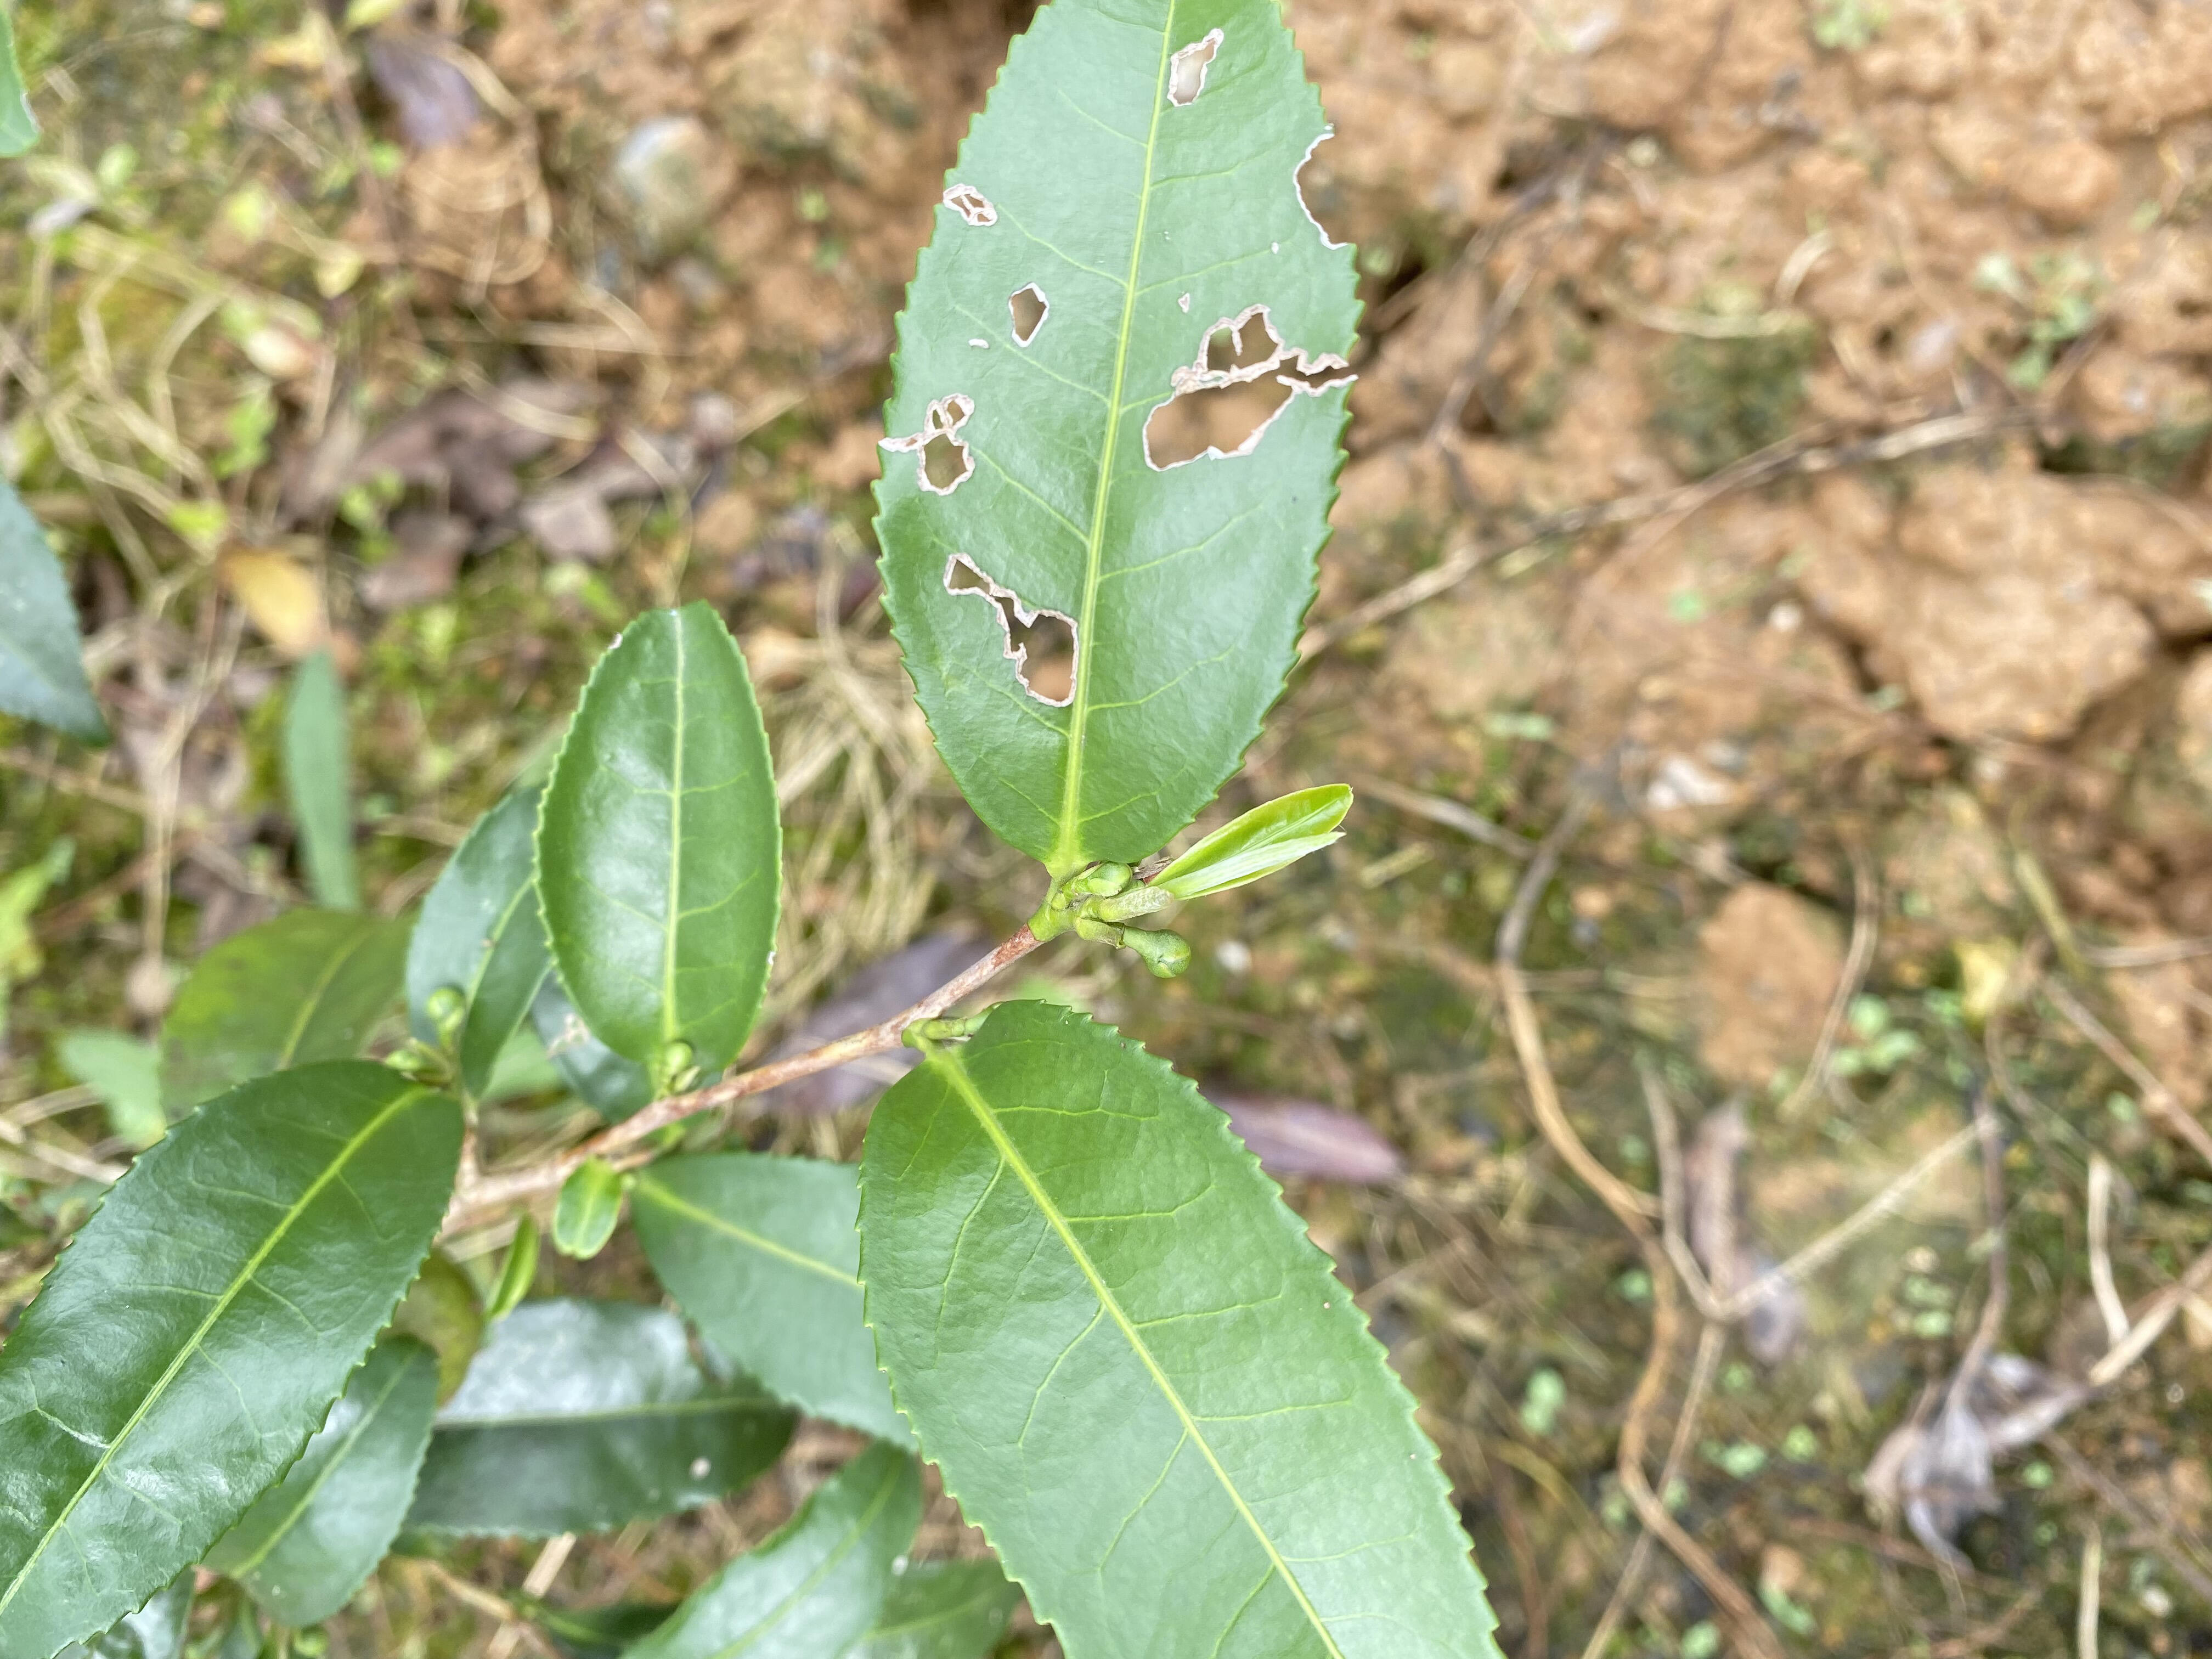chihuo_high: (873, 3, 1364, 873)
healthy: (853, 997, 1510, 1656), (3, 1058, 465, 1656), (531, 599, 777, 1080)
